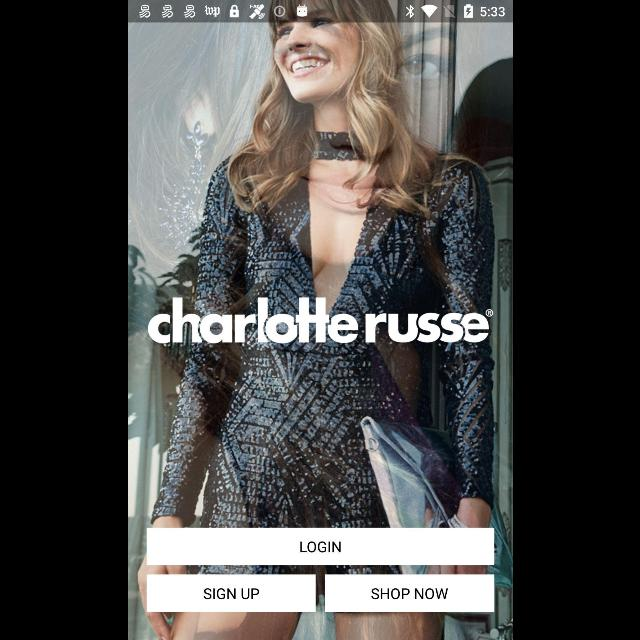backgroundimage: (128, 22, 512, 640)
image: (147, 296, 493, 344)
textbutton: (146, 527, 494, 565), (147, 574, 316, 612), (324, 574, 493, 612)
uppertaskbar: (128, 1, 512, 23)
